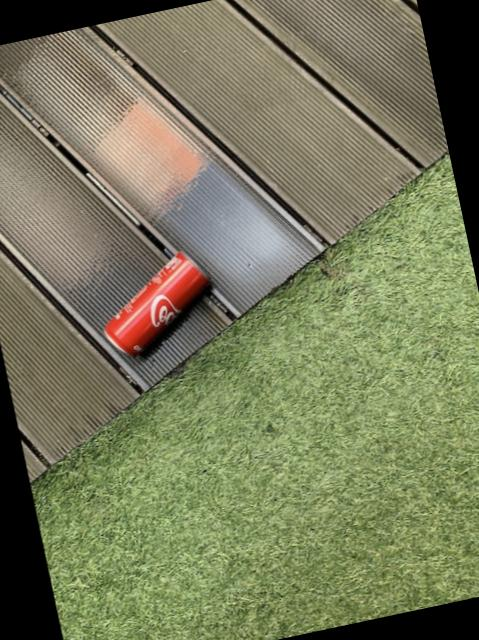metal: (105, 251, 208, 354)
